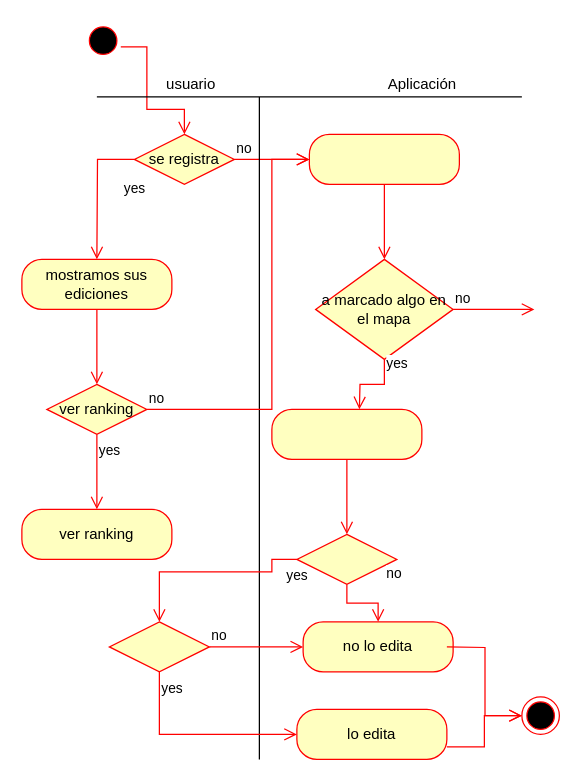
Some shapes in this 581 by 783 pixel diagram are drawn without their labels. The shapes that lost their labels are listed below. From the top down, each one's box as (x1, y1, x2, y2) in pixels, then its label:
(308, 133, 459, 184): esta en introduccion
(271, 408, 422, 459): lo lleva a una pagina de mitología
(296, 533, 397, 584): le da a editar
(108, 621, 209, 672): inicia sesión
